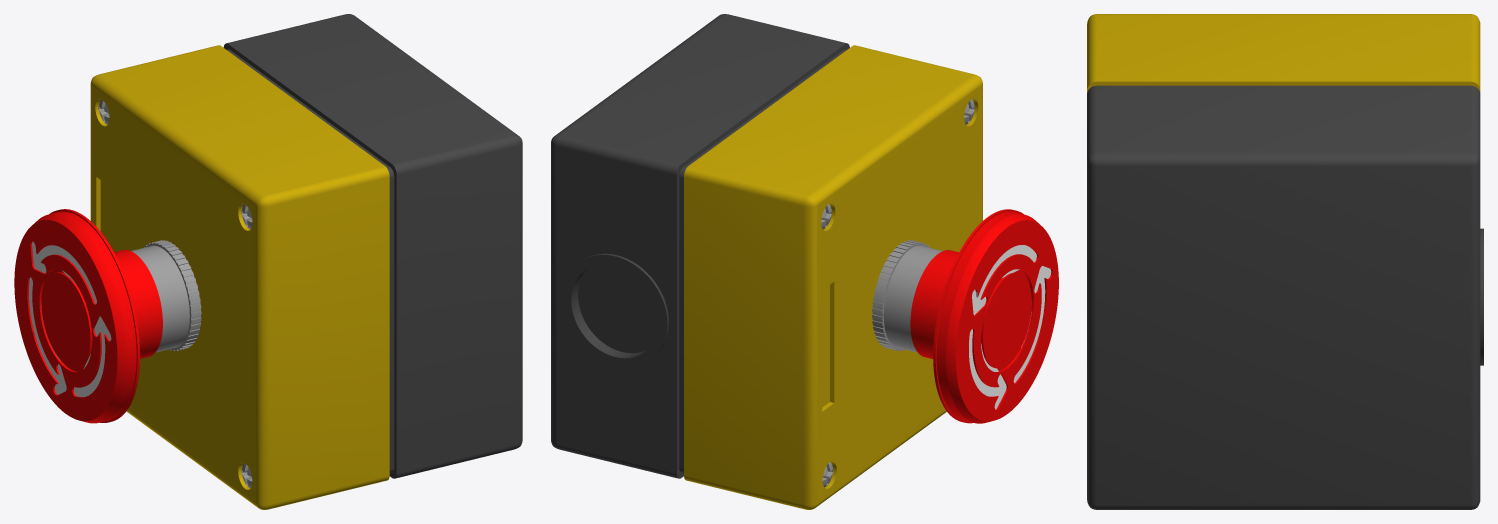
Rendered from Emergency_Stop.fbx.
3 renders of one model, left to right at view 1: azimuth 30°, elevation 25°; view 2: azimuth 150°, elevation 25°; view 3: azimuth 270°, elevation 25°, orthographic. The views are drawn at different scales.
Visible parts, largest first — view 1: BOOLE_BOTTOM_UP, BOTTOM_DOWN, KNOP_BOVEN, KNOP_STAM, Extrude, KNOP_ONDER; view 2: BOOLE_BOTTOM_UP, BOTTOM_DOWN, KNOP_BOVEN, KNOP_STAM, CONNECTOR, Extrude, KNOP_ONDER; view 3: BOTTOM_DOWN, BOOLE_BOTTOM_UP, CONNECTOR.
Boxes of the visible parts, bbox=[...] form: BOOLE_BOTTOM_UP: bbox=[90, 45, 389, 509]; BOTTOM_DOWN: bbox=[223, 14, 522, 478]; KNOP_BOVEN: bbox=[14, 209, 140, 423]; KNOP_STAM: bbox=[131, 240, 201, 352]; Extrude: bbox=[27, 241, 111, 397]; KNOP_ONDER: bbox=[114, 250, 162, 358]; BOOLE_BOTTOM_UP: bbox=[684, 45, 982, 509]; BOTTOM_DOWN: bbox=[551, 14, 849, 478]; KNOP_BOVEN: bbox=[933, 209, 1058, 423]; KNOP_STAM: bbox=[872, 240, 942, 352]; CONNECTOR: bbox=[563, 253, 668, 366]; Extrude: bbox=[969, 245, 1052, 410]; KNOP_ONDER: bbox=[910, 250, 958, 358]; BOTTOM_DOWN: bbox=[1087, 85, 1480, 509]; BOOLE_BOTTOM_UP: bbox=[1087, 14, 1480, 93]; CONNECTOR: bbox=[1480, 228, 1483, 365].
Bounding box in the file's own units: 302 × 242 × 244.
